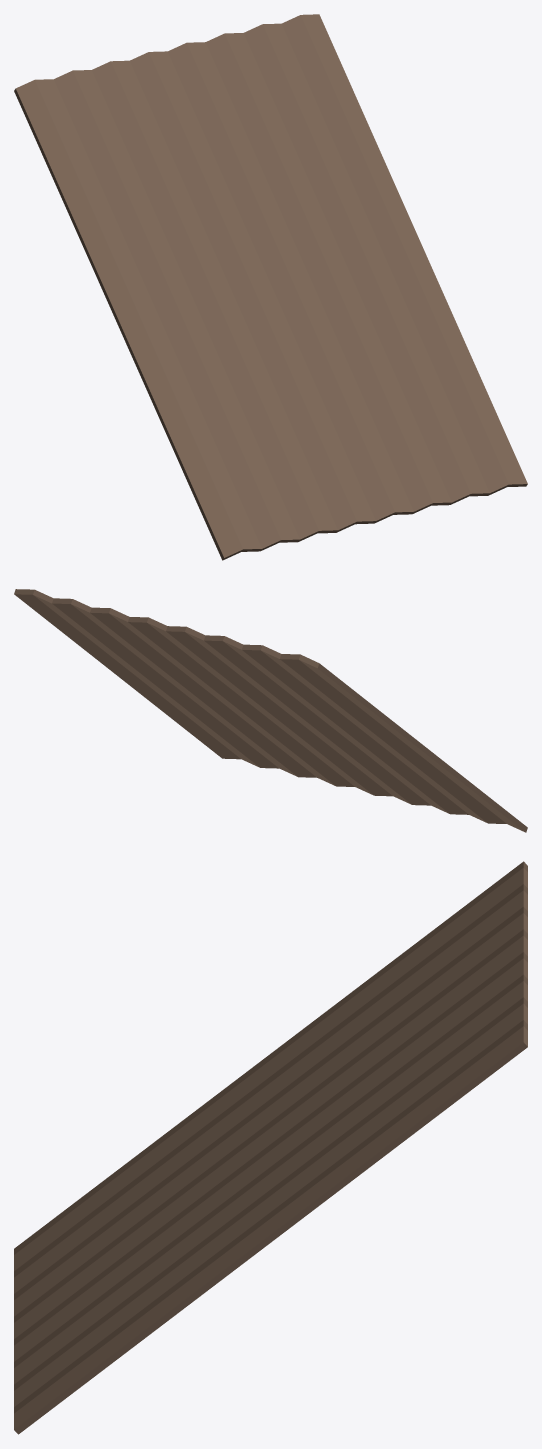
The model's file is Roof_01.fbx.
The picture shows the model from 3 angles, top to bottom: view 1: azimuth 30°, elevation 25°; view 2: azimuth 150°, elevation 25°; view 3: azimuth 270°, elevation 25°; orthographic projection. The views are drawn at different scales.
Visible parts, largest first — view 1: Roof_01_LOD0; view 2: Roof_01_LOD0; view 3: Roof_01_LOD0.
Part boxes in pixels (<box>): Roof_01_LOD0: <box>14,14,527,560</box>; Roof_01_LOD0: <box>14,589,527,832</box>; Roof_01_LOD0: <box>14,861,527,1434</box>.
Size of what is drawn, in the model's own units: 500 by 511 by 600.
